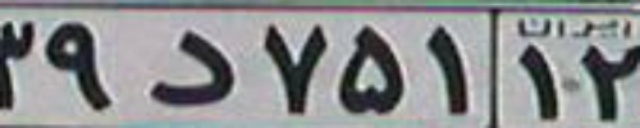1: (426, 25, 466, 114), (515, 41, 558, 118)
2: (583, 41, 637, 120)
3: (1, 18, 42, 111)
5: (336, 23, 406, 114)
7: (262, 22, 322, 113)
9: (46, 18, 110, 109)
dal: (147, 28, 235, 106)
